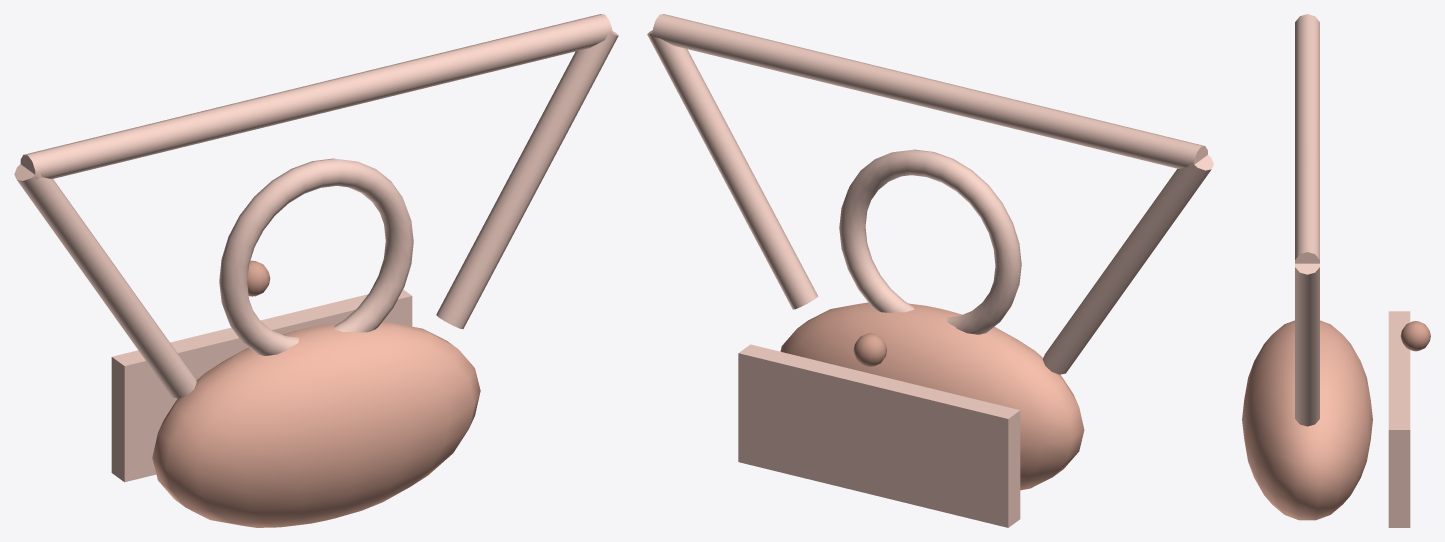
The model's file is VM-DAM-SH40596564.glb.
3 renders of one model, left to right at view 1: azimuth 30°, elevation 25°; view 2: azimuth 150°, elevation 25°; view 3: azimuth 270°, elevation 25°, orthographic. The views are drawn at different scales.
Visible parts, largest first — view 1: Bolso Tote Casual Gran Capacidad; view 2: Bolso Tote Casual Gran Capacidad; view 3: Bolso Tote Casual Gran Capacidad.
Boxes of the visible parts, x1,y1,x2,y2 form: Bolso Tote Casual Gran Capacidad: (14,14,618,527); Bolso Tote Casual Gran Capacidad: (647,14,1213,527); Bolso Tote Casual Gran Capacidad: (1242,14,1430,527).
Size of the model in its own units: 0.5186 by 0.3564 by 0.1675.
